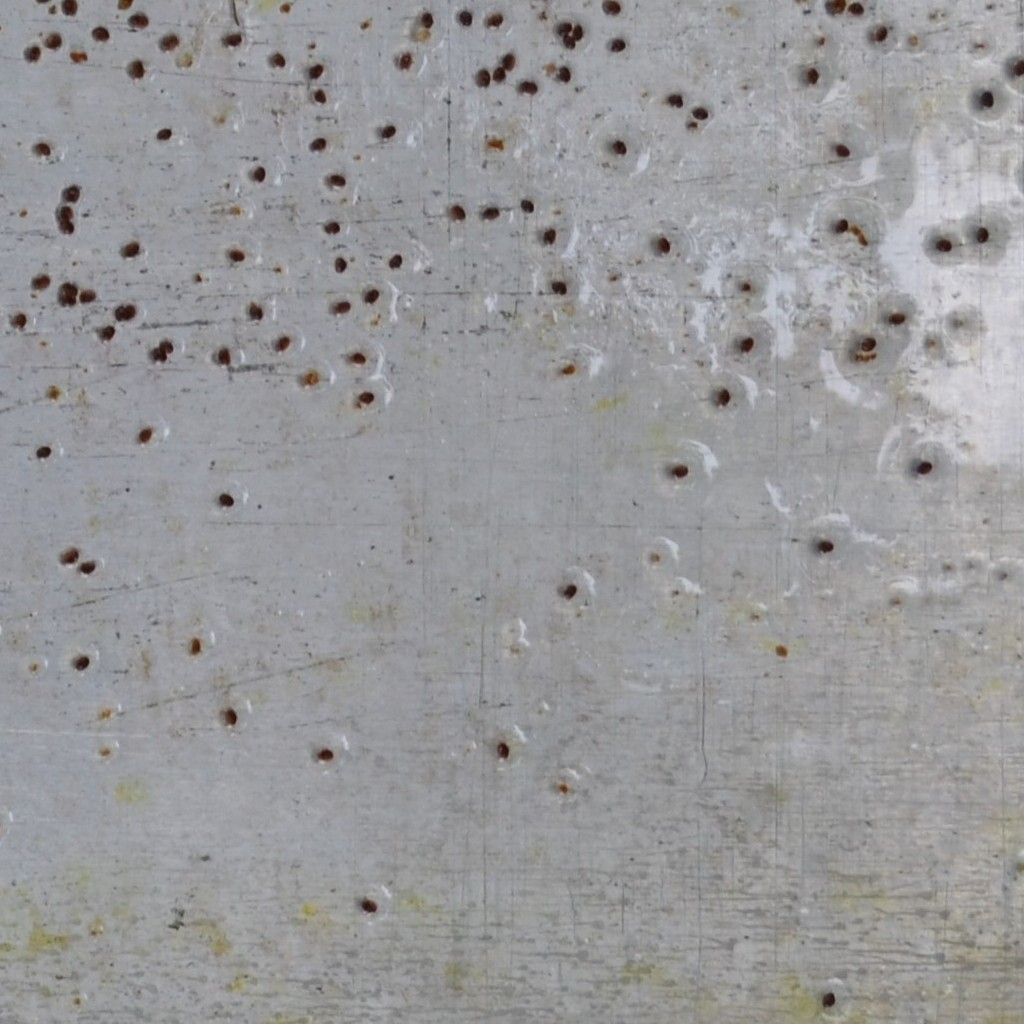varroa: (118, 238, 144, 261), (357, 895, 383, 917), (125, 58, 147, 84), (479, 202, 501, 227), (494, 737, 514, 764), (220, 29, 244, 51), (857, 333, 880, 355), (311, 744, 335, 765), (55, 548, 79, 569), (321, 216, 343, 238), (271, 334, 293, 356), (326, 169, 349, 190), (713, 385, 732, 410), (654, 234, 673, 259), (249, 161, 268, 186), (607, 37, 630, 57), (540, 225, 559, 249), (665, 89, 683, 114), (386, 249, 404, 274), (610, 138, 631, 159), (158, 32, 179, 53), (41, 31, 62, 52), (21, 44, 42, 65), (550, 277, 570, 299), (448, 200, 468, 222), (306, 134, 328, 154), (61, 183, 81, 205), (30, 272, 52, 292), (331, 297, 353, 317), (977, 86, 996, 109), (396, 51, 415, 74), (973, 224, 993, 245), (226, 245, 247, 265), (215, 346, 235, 367), (817, 537, 836, 559), (819, 988, 838, 1010), (185, 635, 204, 657), (379, 121, 398, 143), (306, 60, 325, 82), (473, 65, 491, 88), (269, 46, 287, 69), (556, 62, 573, 86), (485, 12, 505, 32), (129, 13, 150, 32), (34, 138, 53, 159), (913, 460, 935, 478), (669, 462, 691, 480), (689, 105, 713, 121), (78, 558, 97, 578), (217, 488, 236, 508), (356, 387, 376, 406), (148, 345, 168, 364), (34, 444, 54, 463), (363, 284, 381, 305), (153, 124, 174, 142), (77, 287, 98, 305), (824, 0, 846, 17), (834, 216, 851, 238), (73, 652, 90, 674), (518, 79, 540, 96), (418, 9, 435, 31), (137, 423, 154, 445), (519, 196, 535, 219), (560, 582, 579, 601), (805, 64, 823, 84), (834, 141, 852, 161), (490, 65, 508, 85), (310, 87, 328, 107), (333, 254, 350, 275), (886, 312, 909, 327), (737, 336, 755, 355), (58, 278, 77, 296), (10, 312, 29, 330), (244, 301, 263, 319), (500, 52, 517, 72), (348, 349, 368, 366), (846, 2, 867, 18), (933, 237, 954, 253), (89, 25, 110, 41), (570, 22, 585, 44), (122, 303, 140, 321), (58, 219, 77, 236), (873, 23, 889, 43), (221, 707, 237, 727), (55, 206, 75, 222), (58, 293, 78, 309), (60, 0, 78, 17), (554, 20, 573, 36), (602, 1, 623, 15), (561, 34, 578, 51), (158, 337, 174, 355), (458, 8, 472, 28), (100, 325, 117, 341), (1012, 55, 1023, 78), (114, 304, 125, 323), (116, 0, 132, 12)
